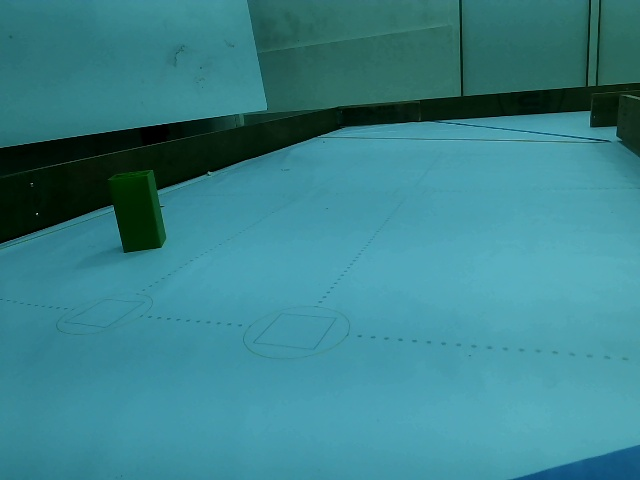green: (106, 174, 168, 249)
